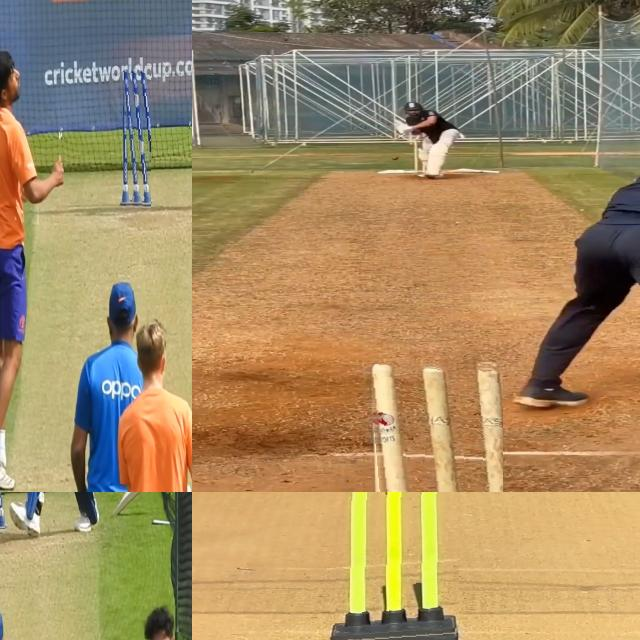Cricket ball: (391, 155, 399, 161)
Stumps: (329, 492, 461, 640), (368, 359, 502, 492), (120, 66, 151, 208)
